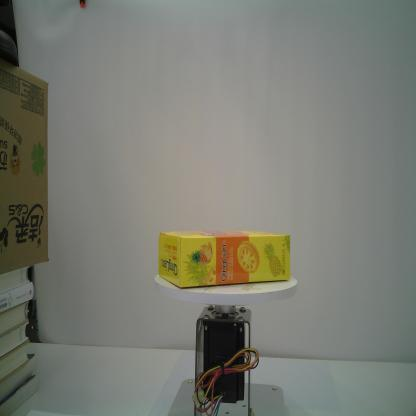Dessert: (157, 229, 292, 290)
